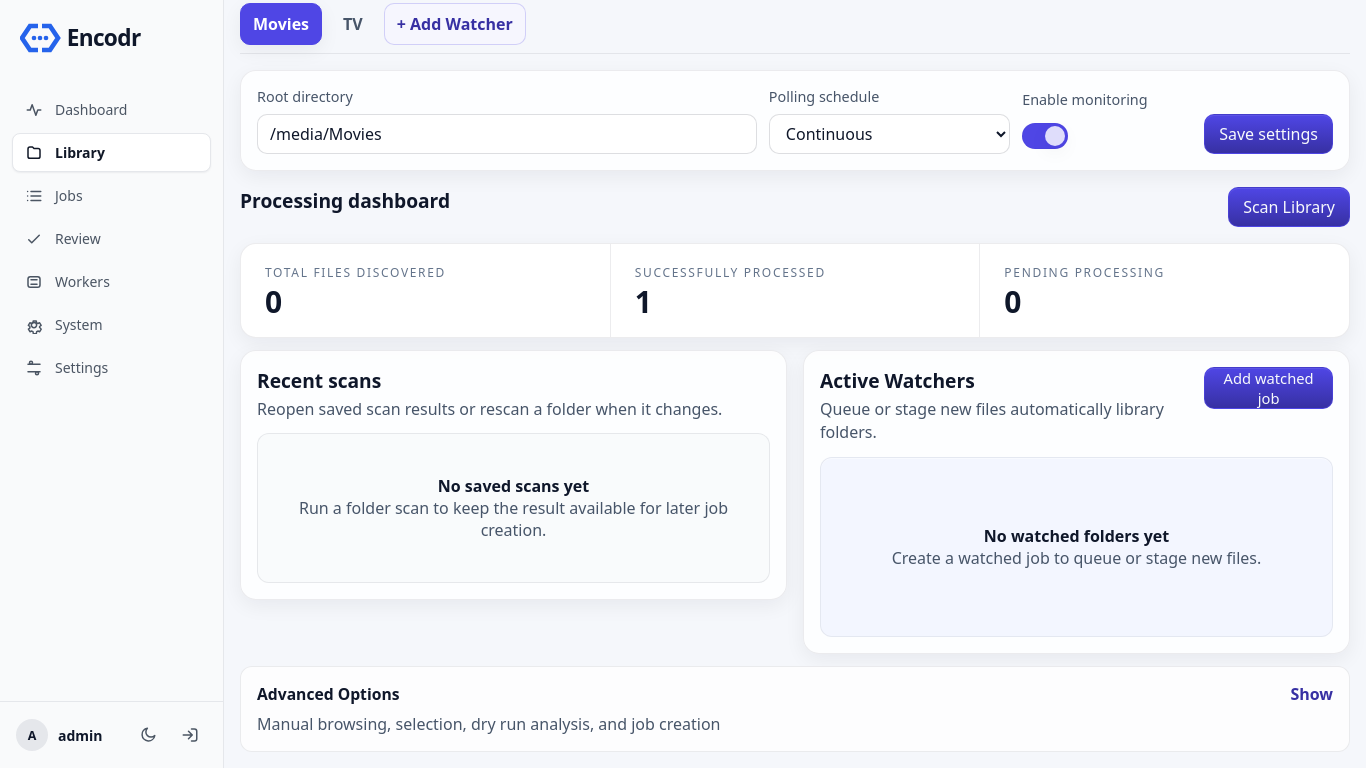
Scenario: Encodr UI shell › scans a folder and runs a dry run from the library action bar
(page scrolled)
Click the button "Advanced Options" at (328, 694), box [241,667,1349,751]
(page scrolled)
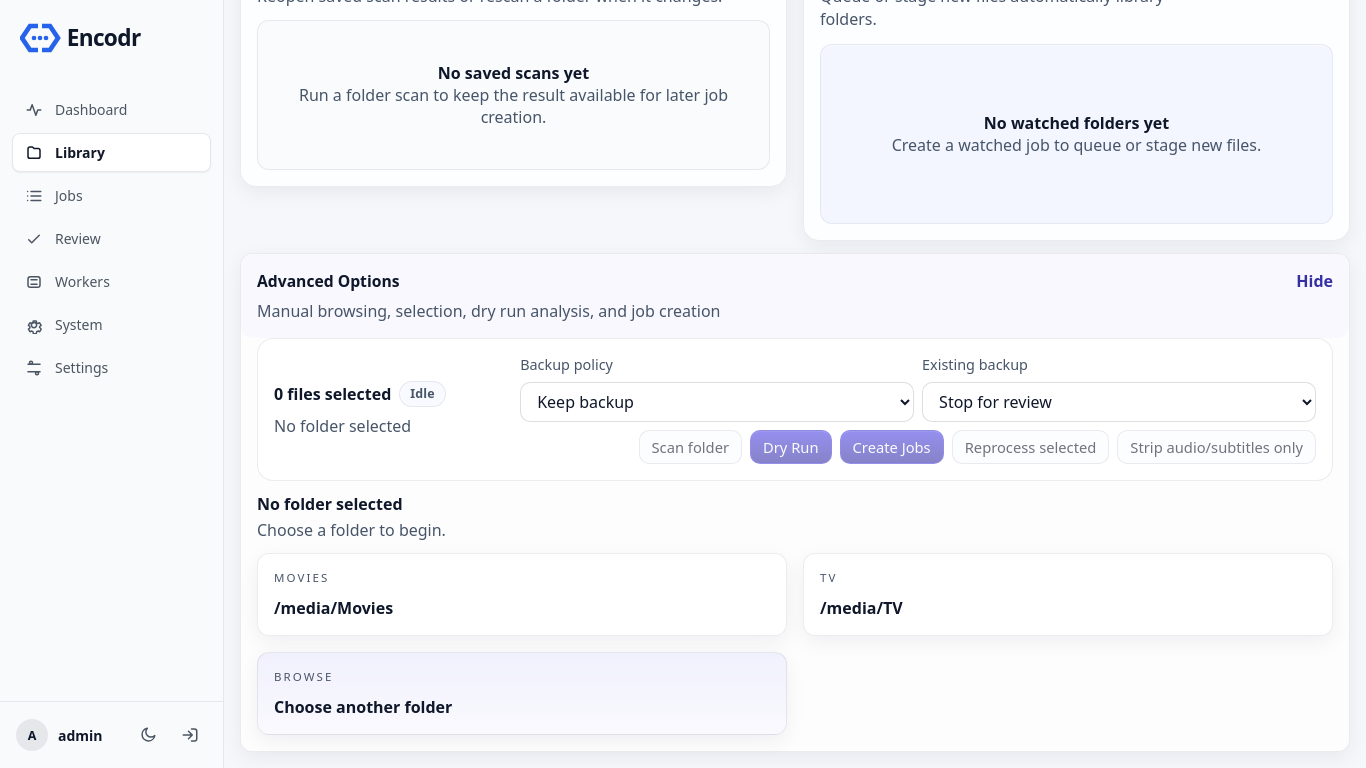
Click the button "Movies /media/Movies" at (302, 577), box [257,553,787,636]
(page scrolled)
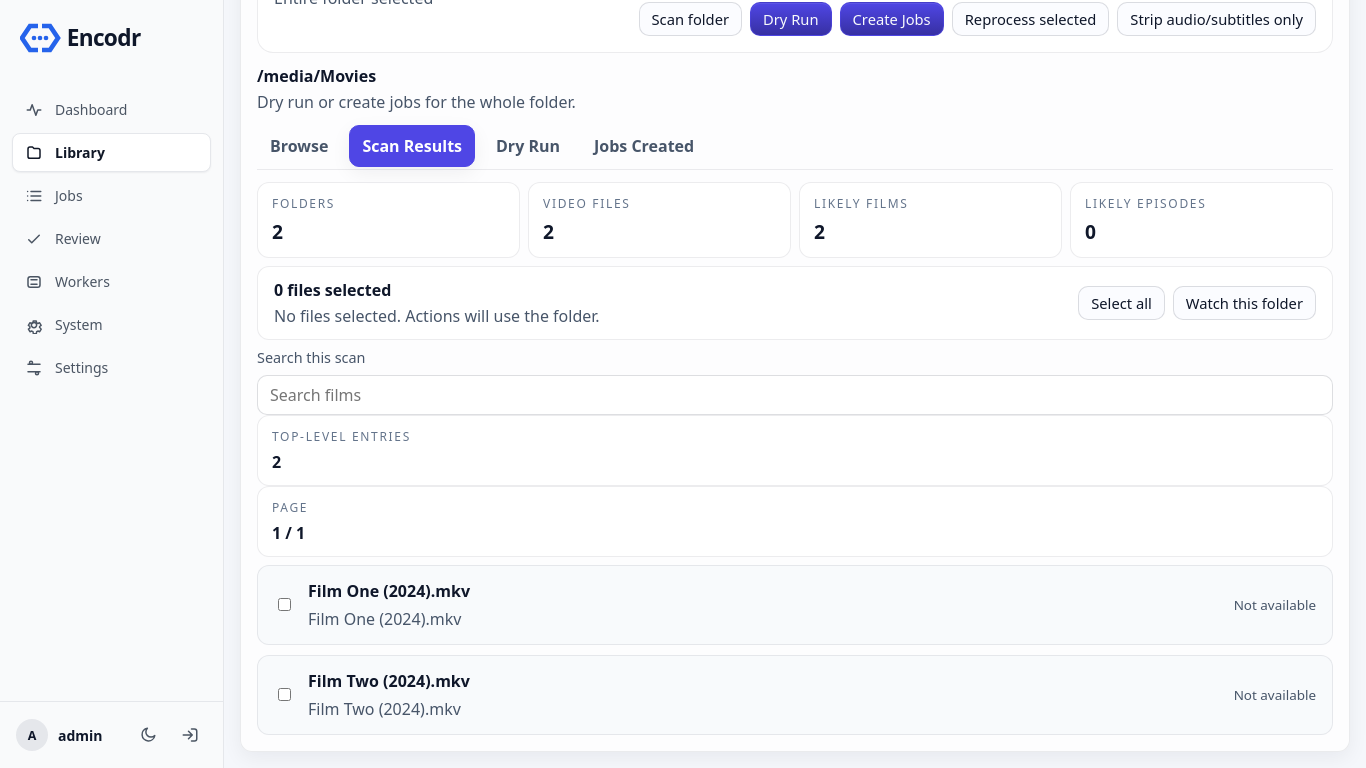
Check: the text "/media/Movies" is shown, box [257,65,376,87]
Click the checkbox labelled "Film One (2024).mkv Film One (2024).mkv Not available" at (284, 605), box [278,598,291,611]
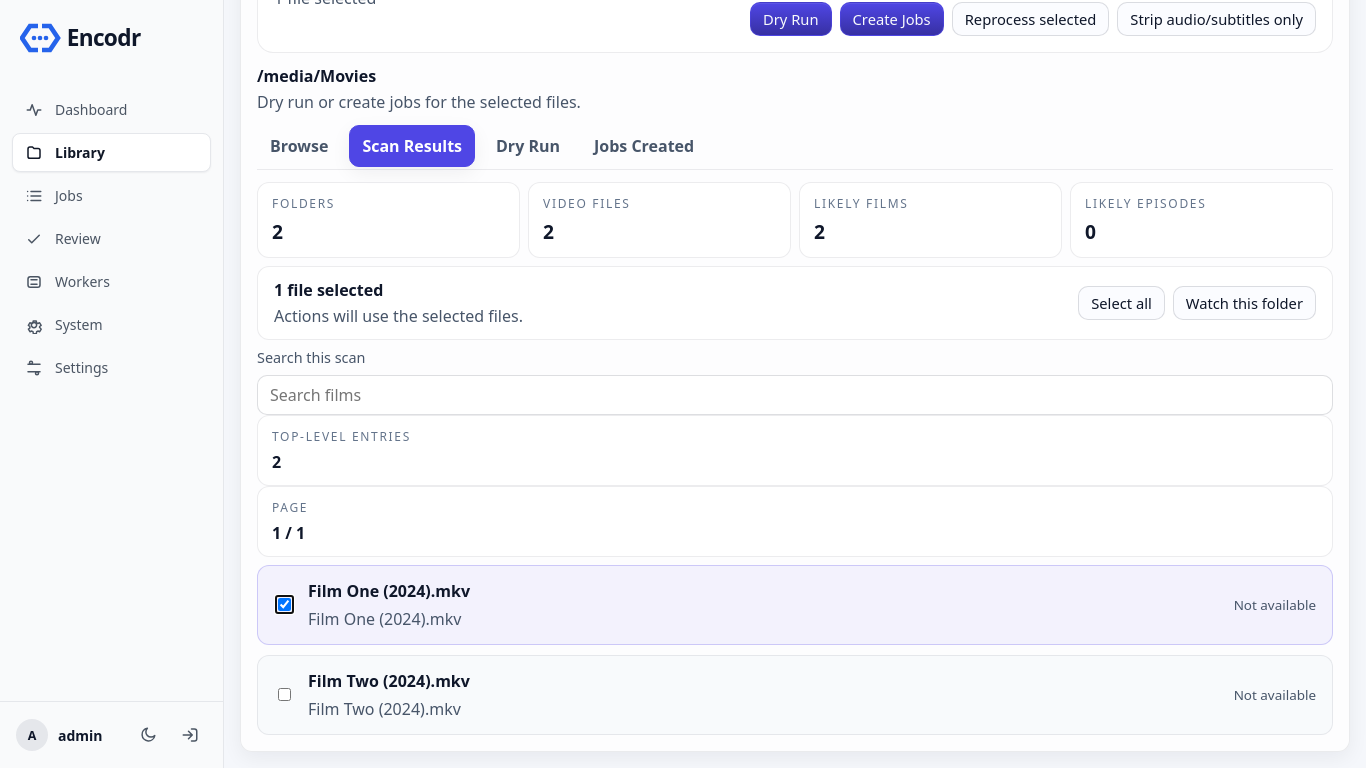
Check: the button "Dry Run" is shown
Check: the button "Create Jobs" is shown, box [840,2,944,36]
Click the button "Dry Run" at (791, 19), box [750,2,832,36]
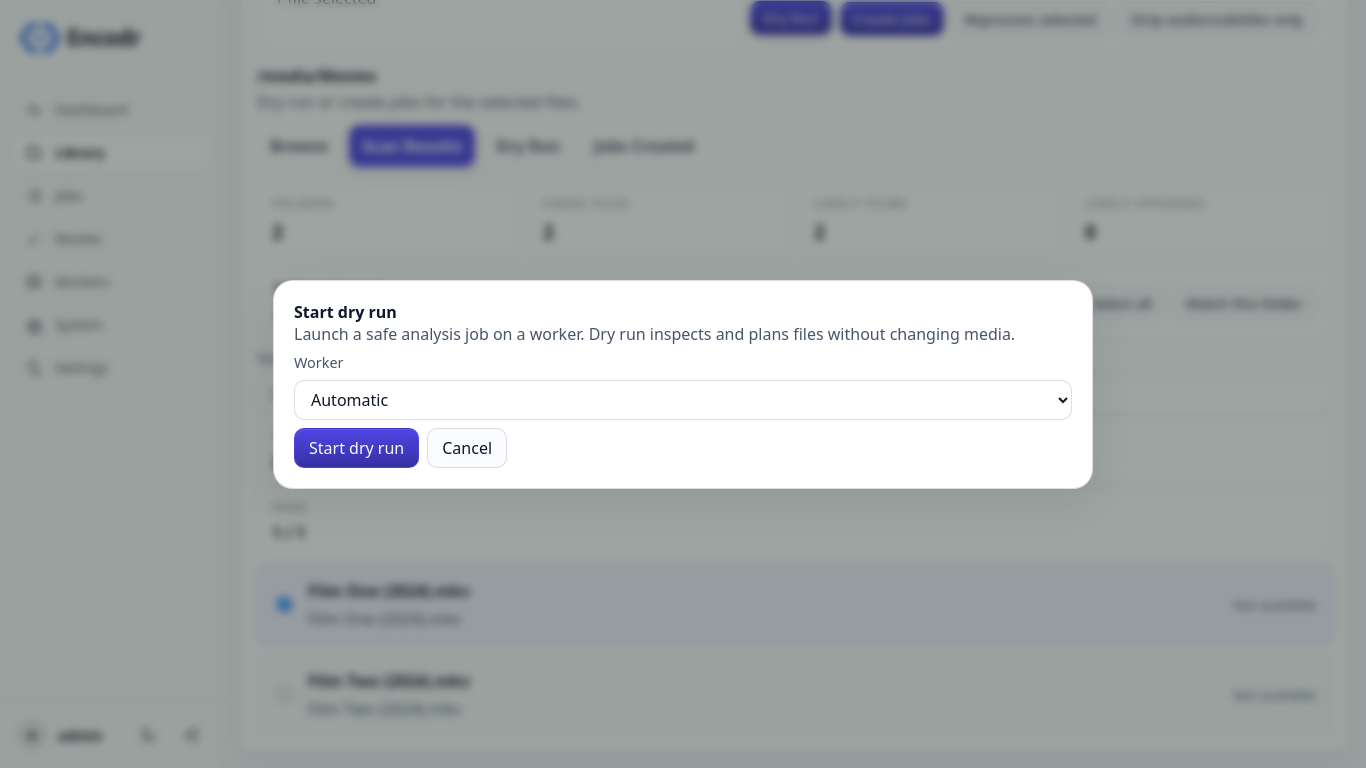
Check: the dialog "Start dry run" is shown
Click the button "Start dry run" at (357, 448), box [294,428,419,468]
(page scrolled)
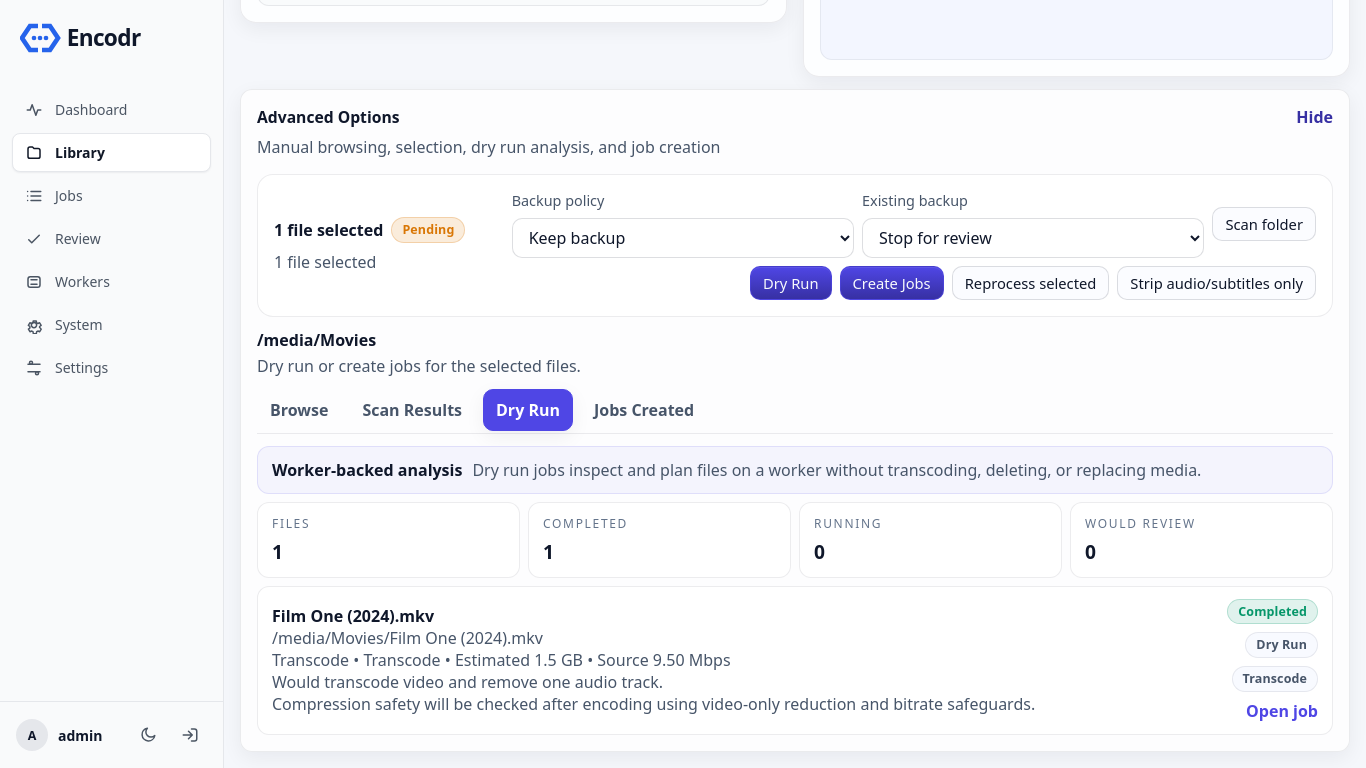
Check: the text "Film One (2024).mkv" is shown, box [272,605,434,627]
Check: the text "Worker-backed analysis" is shown, box [272,459,462,481]
Check: the text "Would transcode video and remove one audio track." is shown, box [272,671,663,693]
